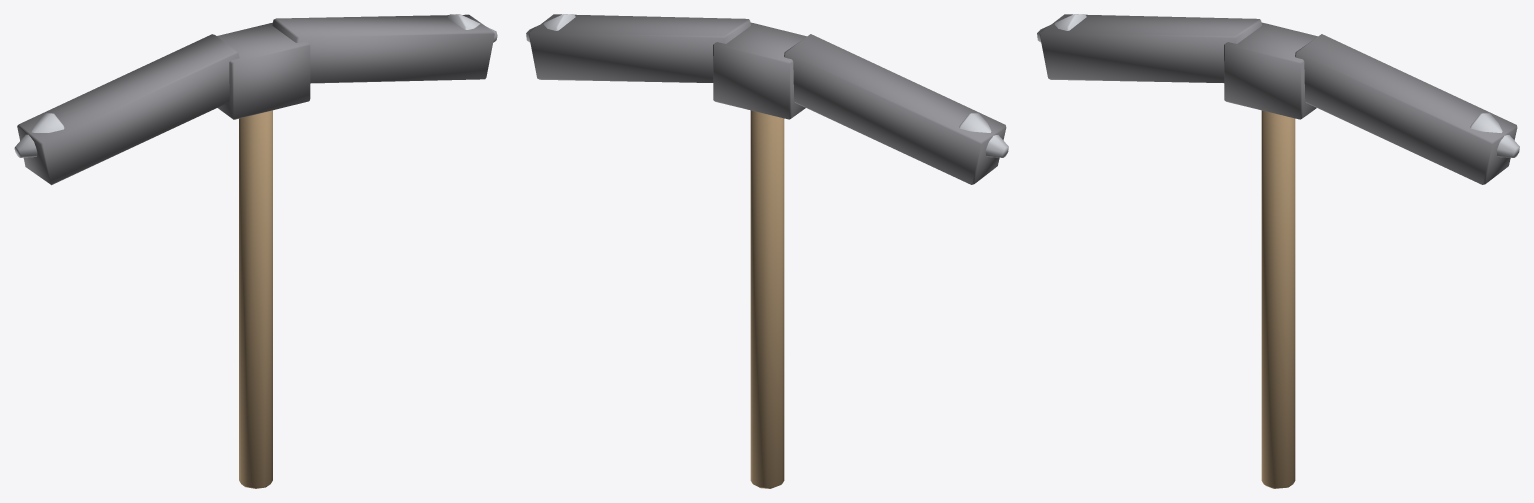
The model's file is item_pickaxe.glb.
3 views of the same model, side by side, from view 1: azimuth 30°, elevation 25°; view 2: azimuth 150°, elevation 25°; view 3: azimuth 330°, elevation 25° (orthographic).
Visible parts, largest first — view 1: item_pickaxe; view 2: item_pickaxe; view 3: item_pickaxe.
Boxes of the visible parts, x1,y1,x2,y2 form: item_pickaxe: (14,14,497,488); item_pickaxe: (526,14,1008,488); item_pickaxe: (1037,14,1519,488).
Bounding box in the file's own units: 0.8499 × 0.7608 × 0.0979.
